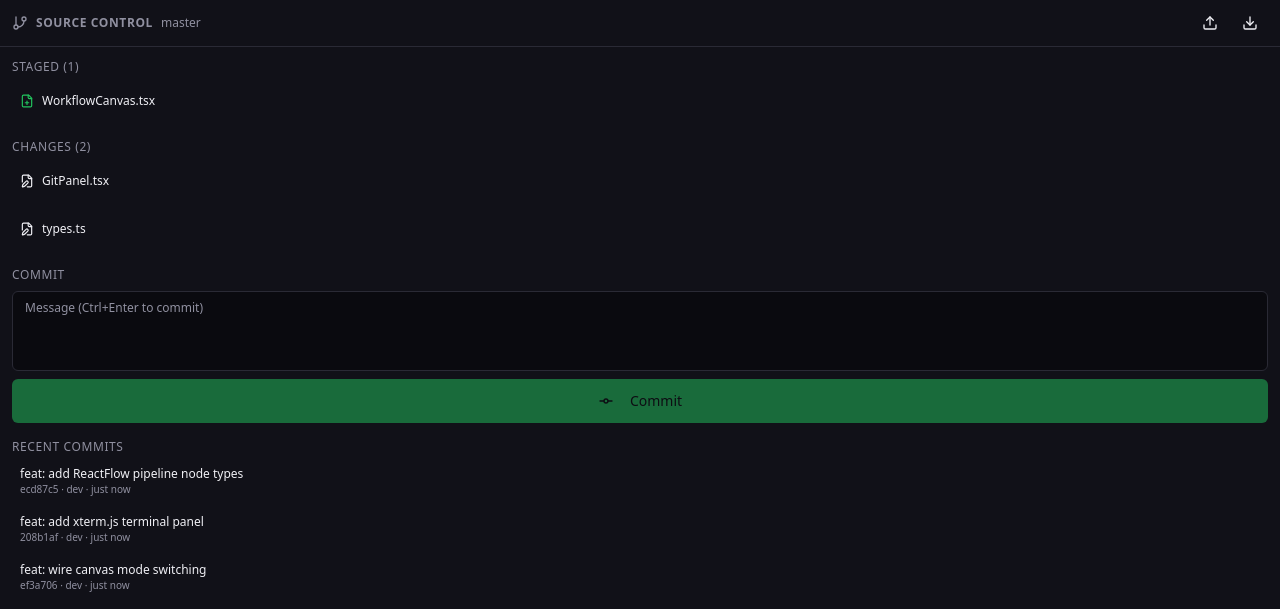
Test: GitPanel › commit button enables when message is typed
The width and height of the screenshot is (1280, 609).
Type "feat: my commit" into the text box with test id "commit-message-input" at (640, 331), box top-left (12, 291), bottom-right (1268, 371)
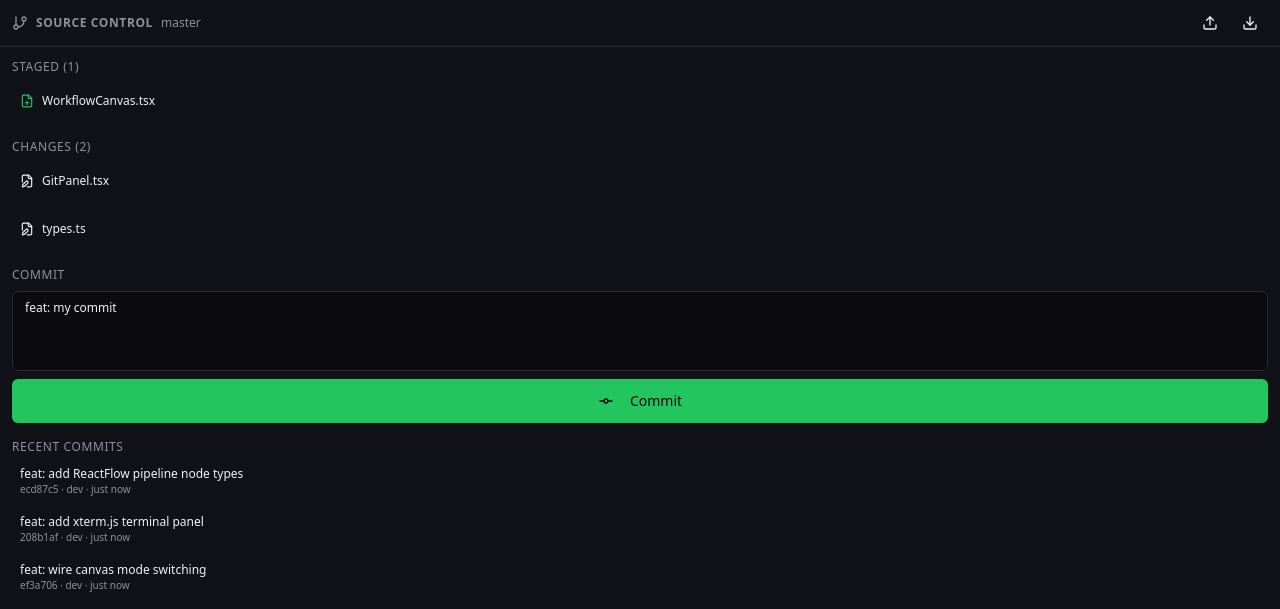
Now the button with test id "commit-button" is enabled, box top-left (12, 379), bottom-right (1268, 423)
